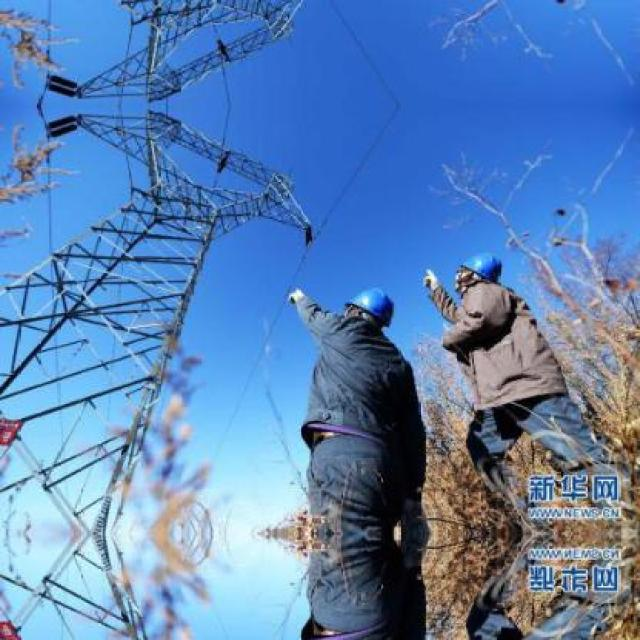helmet: (448, 253, 502, 298), (343, 285, 395, 330)
